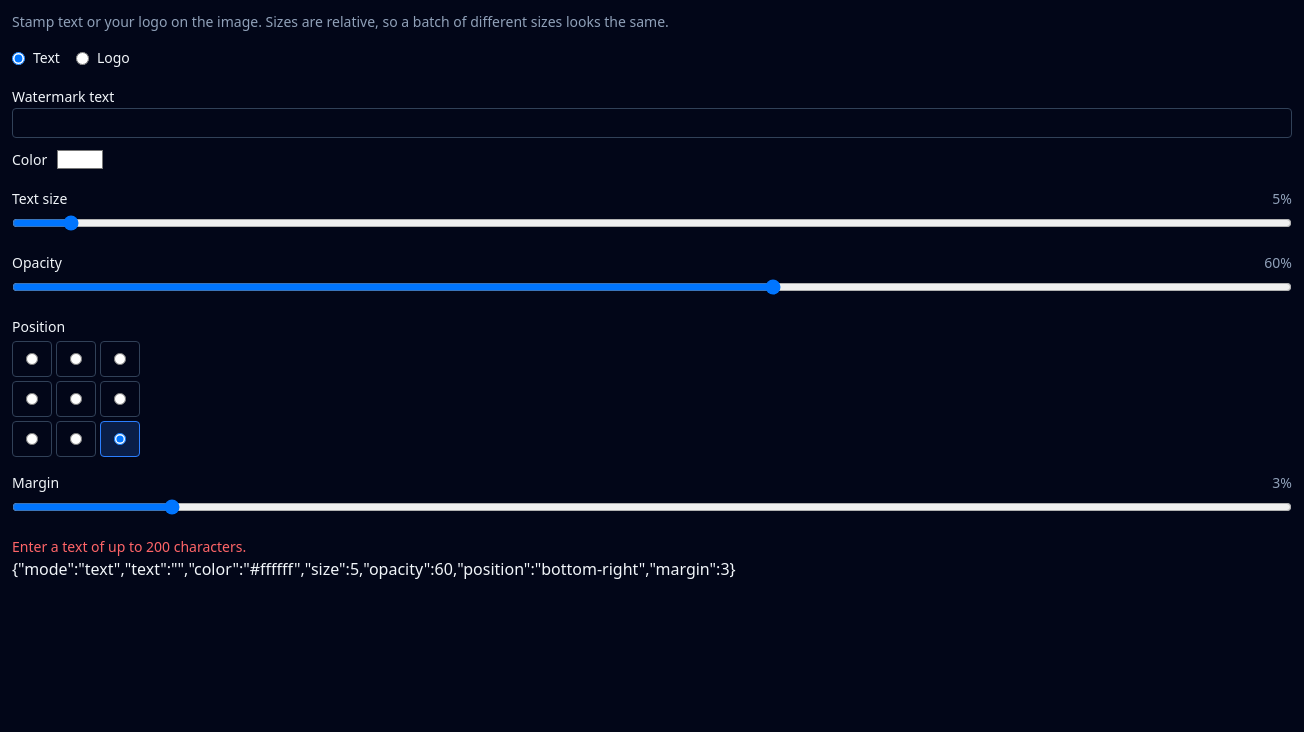
Scenario: watermark panel › edits text and shows an error until text is entered
Expected: the message shows "Enter a text", [12,537,246,556]
Type "hi" into the field labelled "Watermark text" at (652, 123), box [12,108,1292,138]
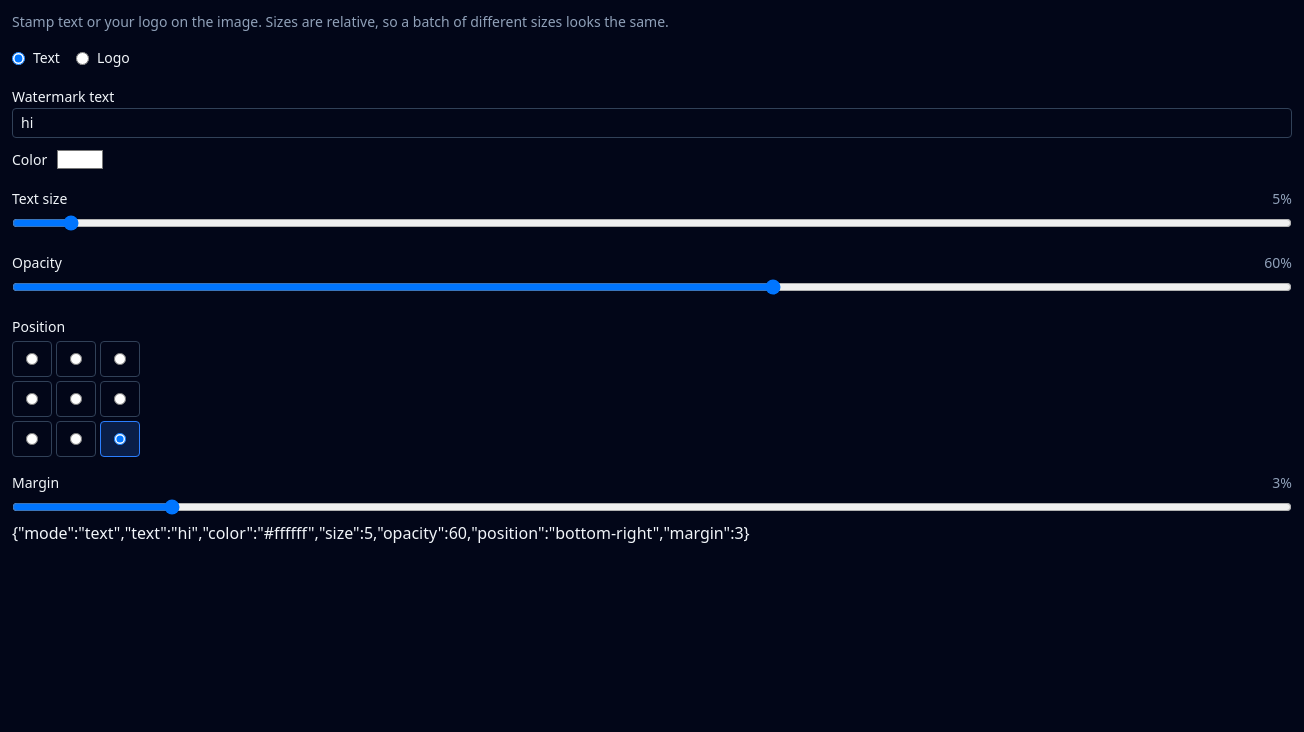
Expected: the message "Enter a text of up to 200 characters." is gone
